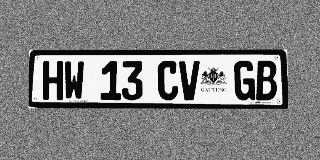1: (101, 61, 121, 100)
3: (122, 61, 143, 100)
B: (256, 61, 277, 100)
C: (158, 61, 178, 100)
G: (234, 61, 255, 100)
H: (43, 61, 63, 100)
V: (179, 61, 200, 100)
W: (64, 61, 84, 100)
